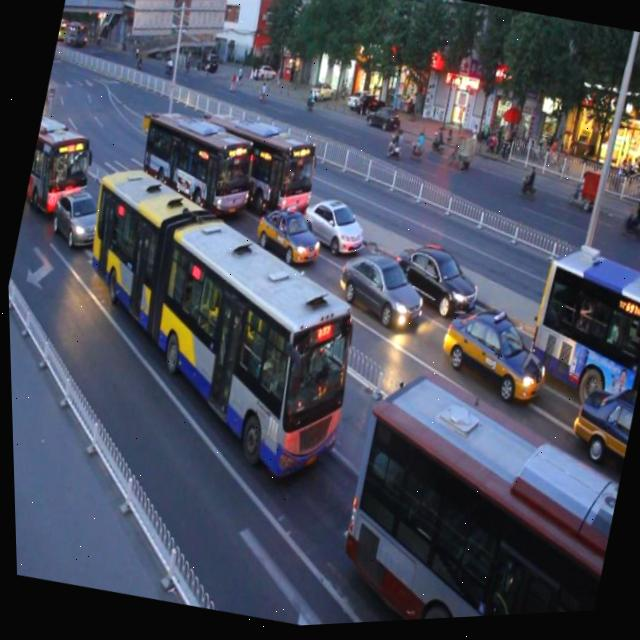car: (427, 302, 554, 424), (324, 242, 427, 344), (384, 238, 485, 331), (563, 376, 638, 466), (245, 198, 325, 278), (292, 189, 369, 268), (44, 185, 111, 256)
van: (38, 147, 388, 502), (316, 364, 634, 627), (516, 245, 640, 413), (126, 97, 264, 236), (187, 101, 326, 232), (21, 103, 99, 213)
